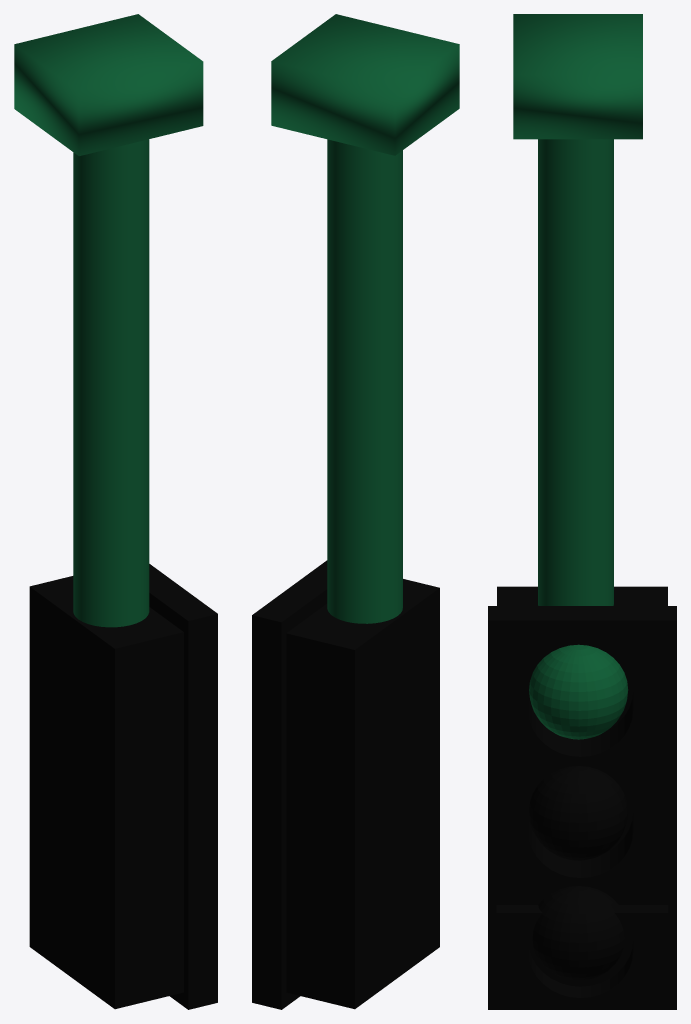
The model's file is semaforo_verde.dae.
3 views of the same model, side by side, from view 1: azimuth 30°, elevation 25°; view 2: azimuth 150°, elevation 25°; view 3: azimuth 270°, elevation 25° (orthographic).
Visible parts, largest first — view 1: Cube, Cube.001; view 2: Cube, Cube.001; view 3: Cube, Cube.001, green light, orange light, red light, Circle.001, Circle.002, Circle.
Part boxes in pixels (<box>): Cube: <box>29,564,217,1009</box>; Cube.001: <box>14,14,203,627</box>; Cube: <box>252,560,439,1009</box>; Cube.001: <box>271,14,459,623</box>; Cube: <box>488,586,676,1009</box>; Cube.001: <box>513,14,642,605</box>; green light: <box>529,644,628,739</box>; orange light: <box>529,766,628,860</box>; red light: <box>532,886,624,980</box>; Circle.001: <box>527,811,633,877</box>; Circle.002: <box>527,690,633,756</box>; Circle: <box>527,939,633,997</box>.
Size of the model in its own units: 0.9625 by 1.02 by 5.58.
